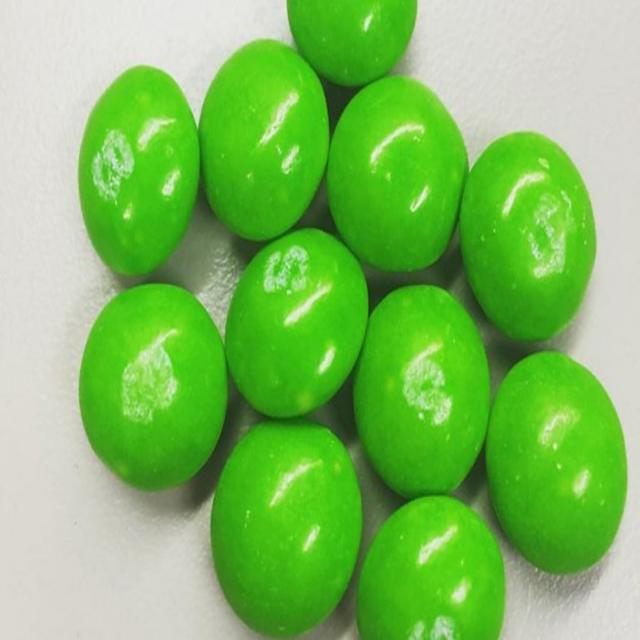smartie: (211, 418, 362, 637), (487, 352, 628, 574), (78, 283, 227, 490), (355, 287, 491, 497), (460, 131, 597, 339), (327, 75, 469, 271), (225, 229, 368, 417), (198, 38, 330, 240), (78, 64, 199, 274), (357, 496, 506, 640), (287, 0, 418, 85)
